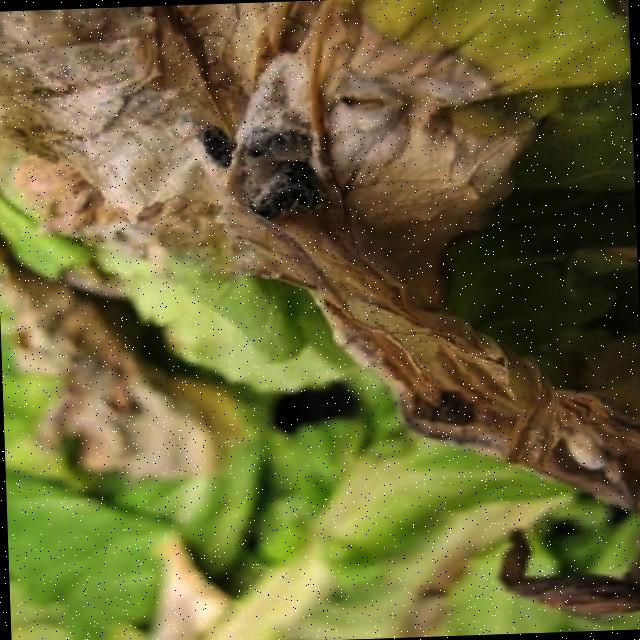Wilt_and_leaf_blight_on_lettuce: (0, 1, 633, 508)
